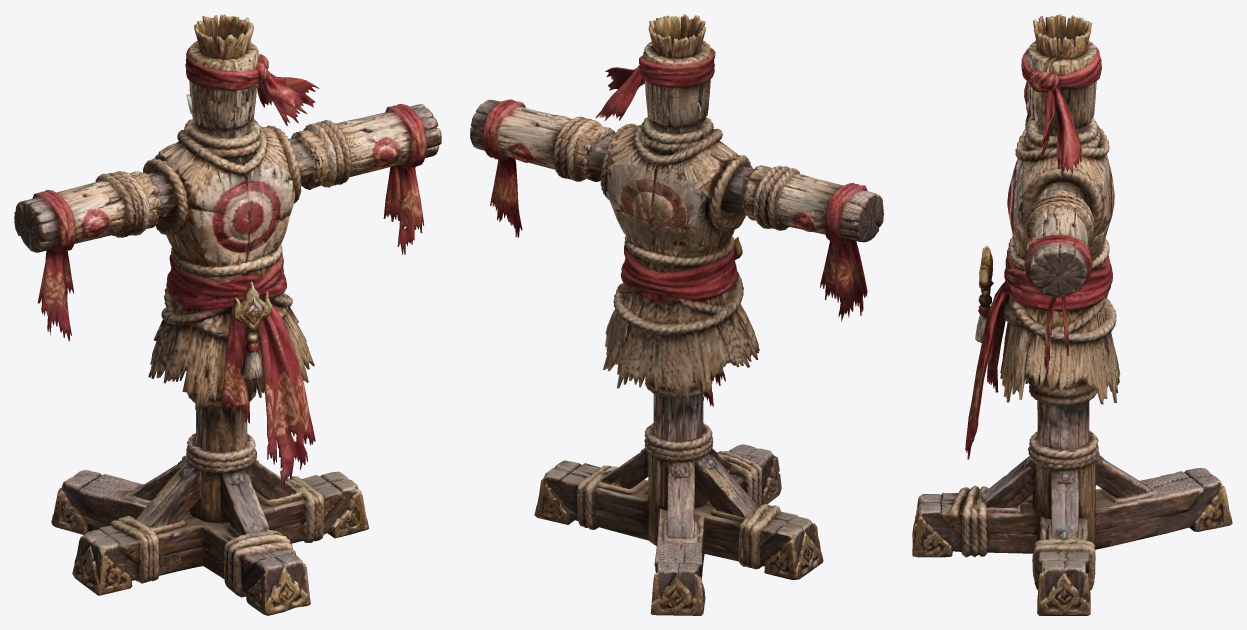
File: training-dummy.glb
3 renders of one model, left to right at view 1: azimuth 30°, elevation 25°; view 2: azimuth 150°, elevation 25°; view 3: azimuth 270°, elevation 25°, orthographic. The views are drawn at different scales.
Parts seen in each view (by area): view 1: dummy_export; view 2: dummy_export; view 3: dummy_export.
Part boxes in pixels (bbox=[...]): dummy_export: bbox=[14, 14, 441, 615]; dummy_export: bbox=[470, 14, 883, 615]; dummy_export: bbox=[912, 14, 1232, 615].
Size of the model in its own units: 0.7728 by 0.9819 by 0.5373.
1 material, 1 textured.
